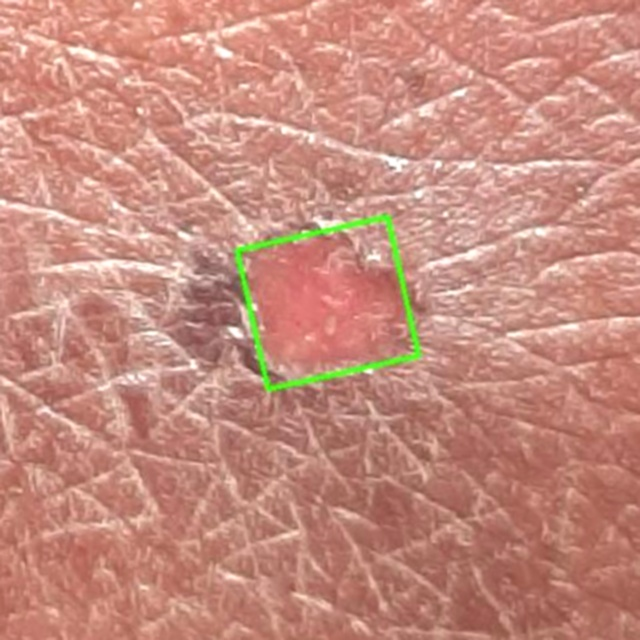Contact Dermatitis: (238, 216, 419, 388)
